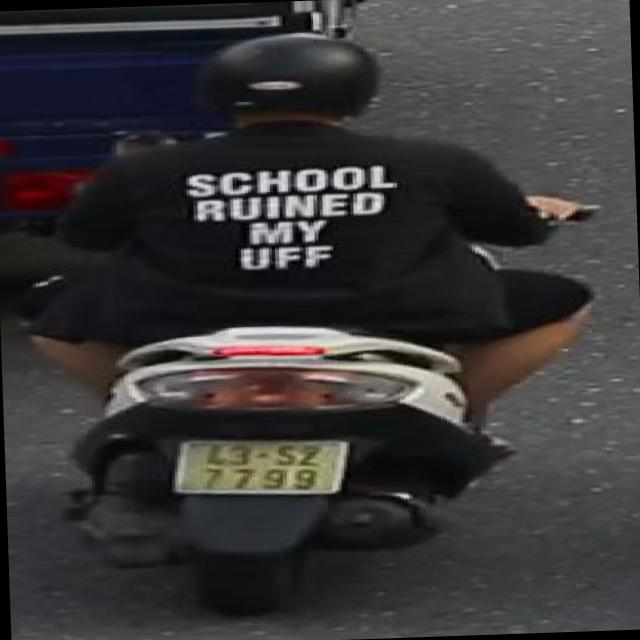LP: (164, 427, 357, 502)
helmet: (194, 28, 386, 132)
